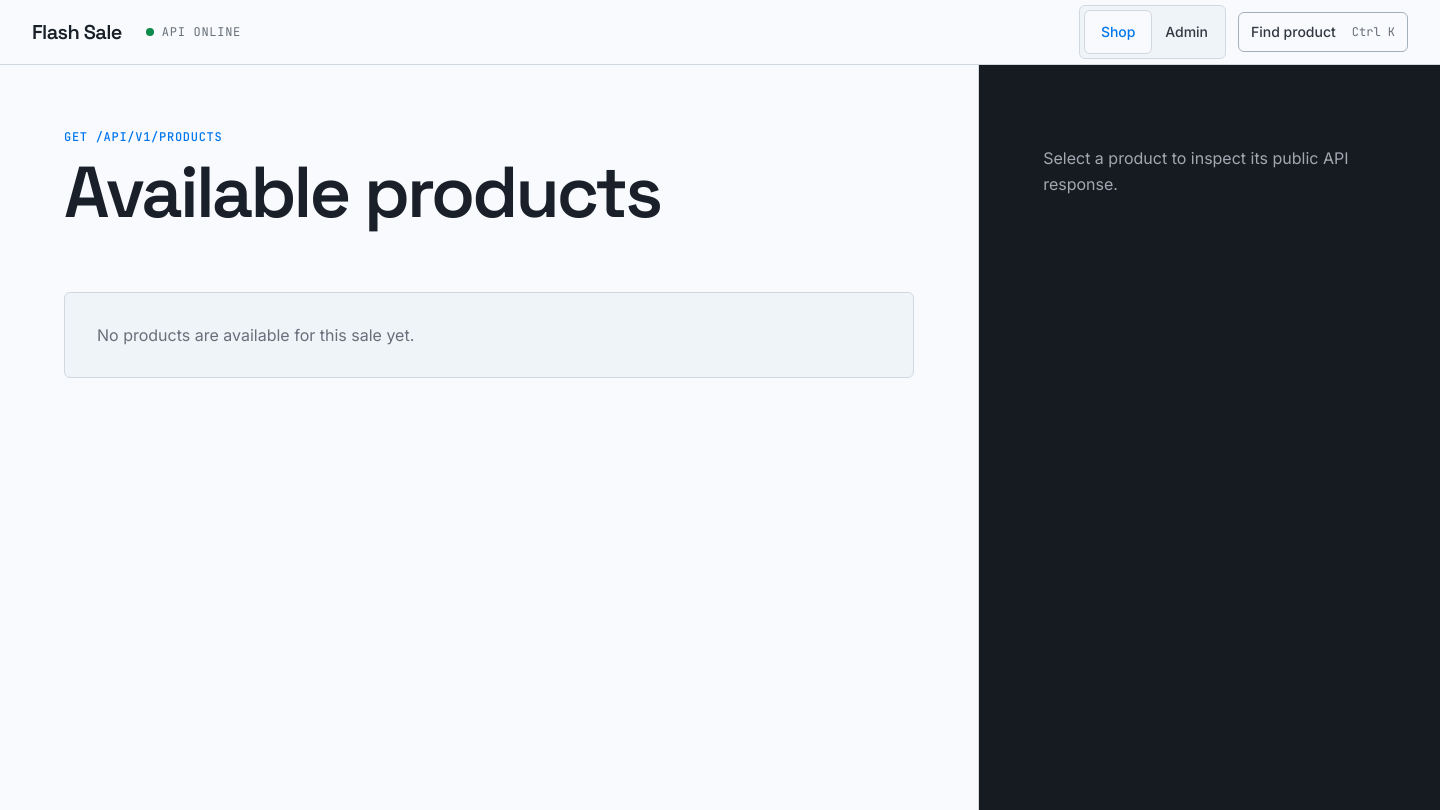
Scenario: App › maps Order filter validation details back to the affected controls
Check: the text "No products are available for this sale yet." is shown, box [64, 292, 914, 378]
Click the button "Admin" at (1187, 32), box [1152, 10, 1221, 54]
(page scrolled)
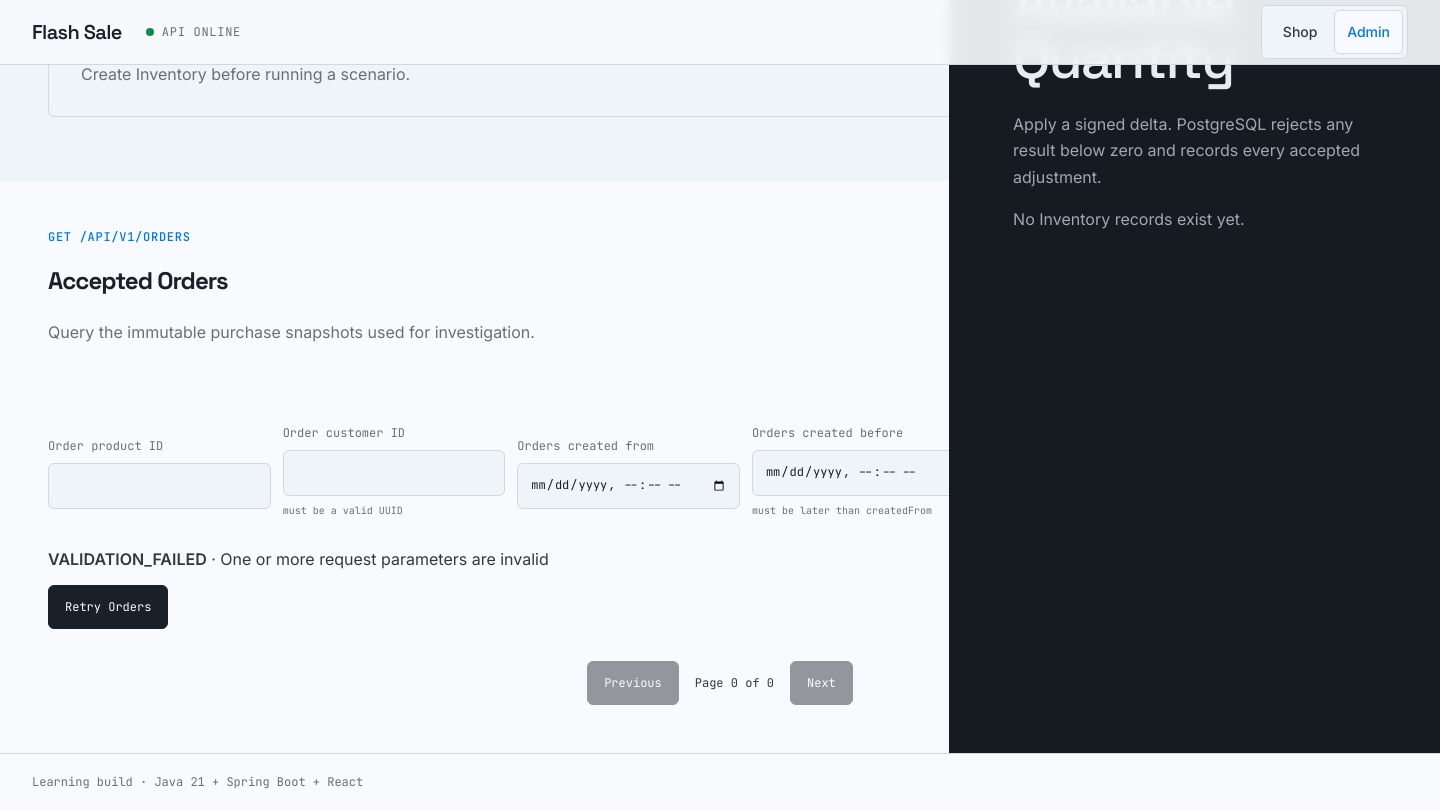
Check: the message shows "VALIDATION_FAILED", box [48, 548, 207, 568]
Check: the message shows "One or more request parameters are invalid", box [220, 548, 549, 568]
Check: the text "must be a valid UUID" is shown, box [283, 504, 403, 516]
